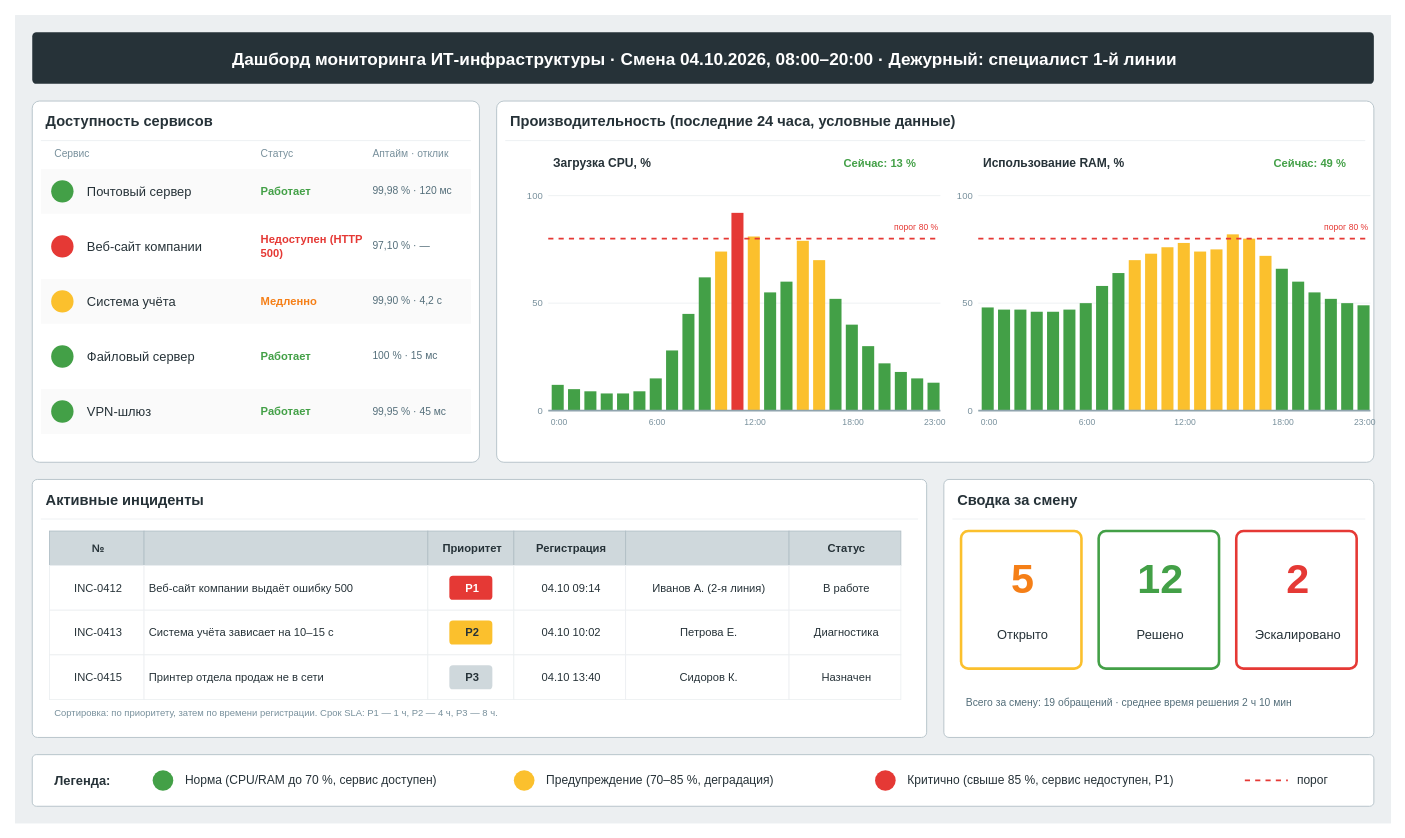
This 1405x838 diagram has some shape labels left out. The shapes that lost their labels are listed below. From the top down, each one's centre as x and y in pixels, then its label:
(285,547): Тема
(707,547): Ответственный
